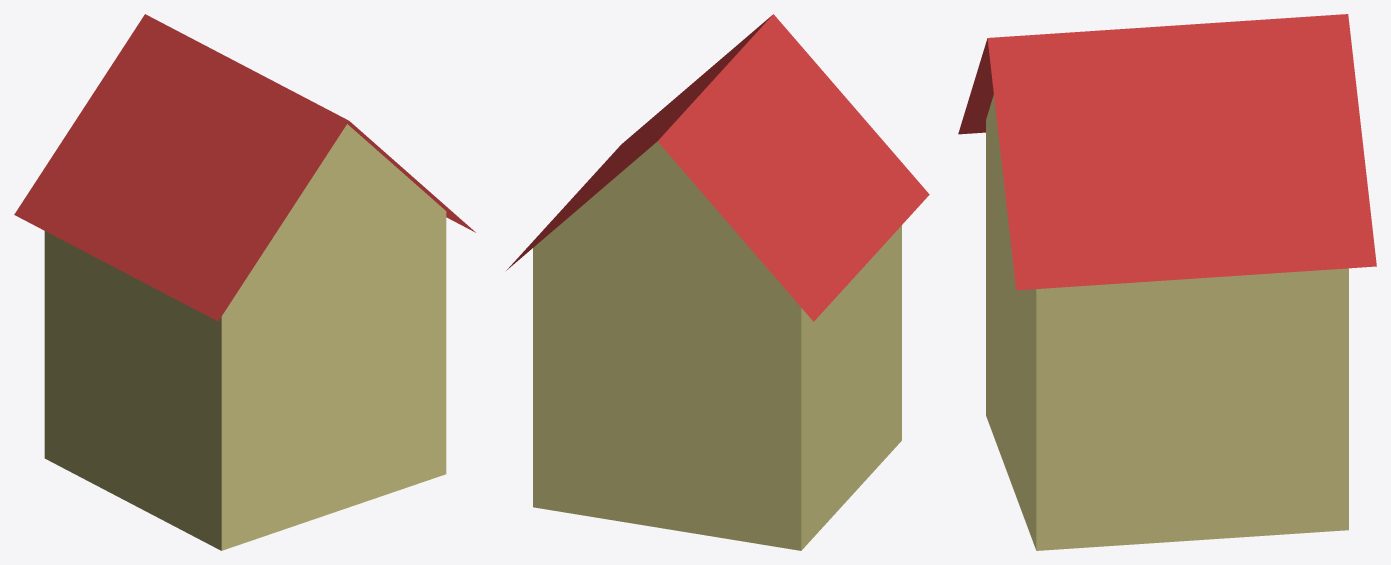
3 views of the same model, side by side, from view 1: azimuth 30°, elevation 25°; view 2: azimuth 150°, elevation 25°; view 3: azimuth 270°, elevation 25° (orthographic). The views are drawn at different scales.
Size of the model in its own units: 8.76 by 8.61 by 10.16.
